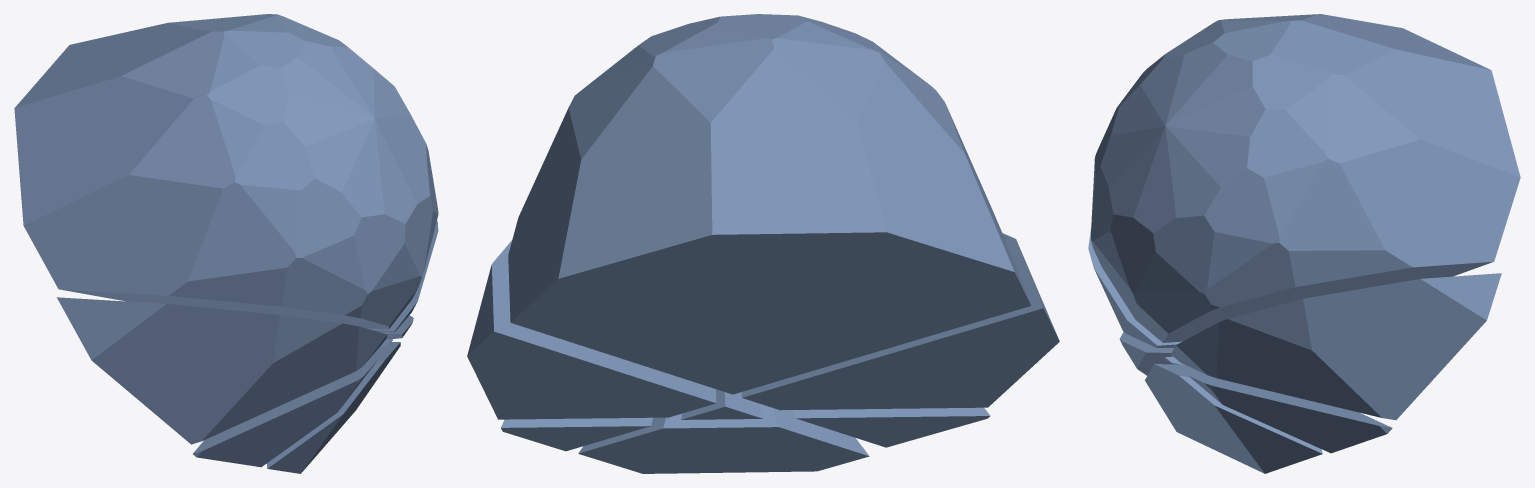
File: gem_127747.gltf
3 renders of one model, left to right at view 1: azimuth 30°, elevation 25°; view 2: azimuth 150°, elevation 25°; view 3: azimuth 270°, elevation 25°, orthographic. The views are drawn at different scales.
Bounding box in the file's own units: 1.93 × 1.91 × 1.86.
